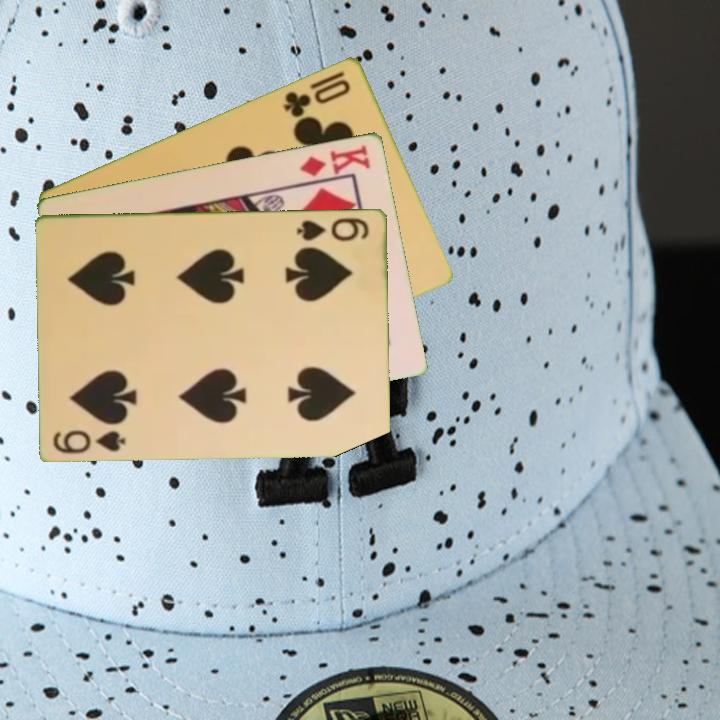10c: (280, 74, 354, 120)
6s: (294, 214, 373, 244), (50, 426, 128, 456)
Kd: (296, 140, 374, 179)
